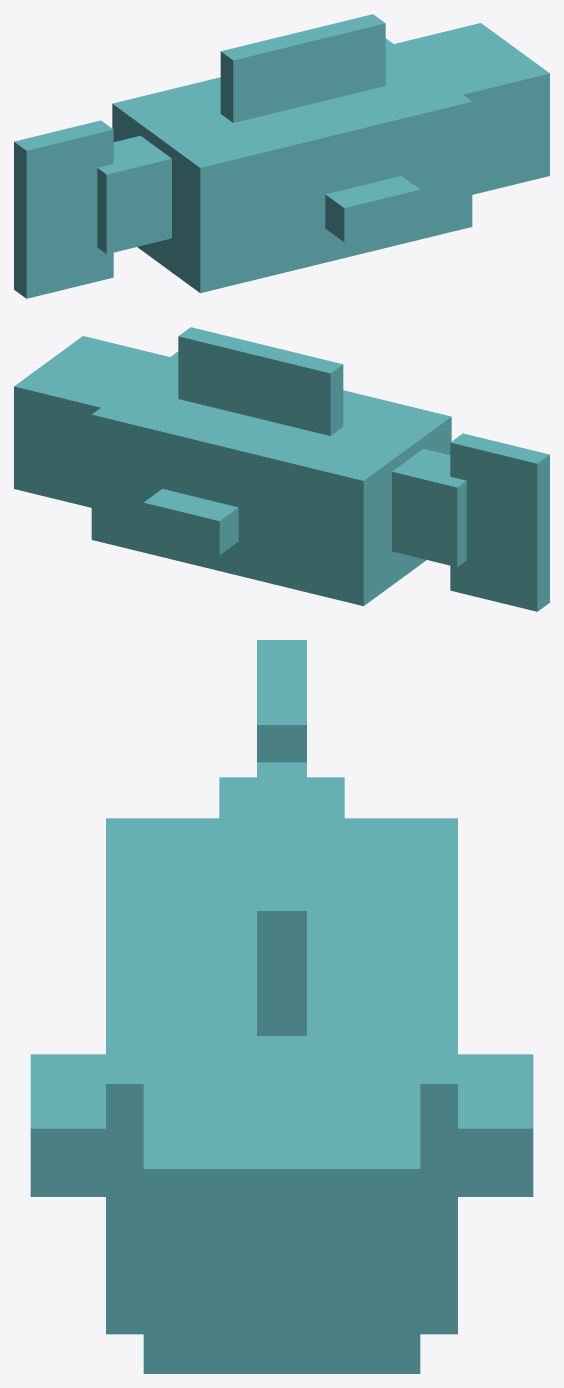
The model's file is fish_aurora_cod.glb.
3 views of the same model, one above another, from view 1: azimuth 30°, elevation 25°; view 2: azimuth 150°, elevation 25°; view 3: azimuth 270°, elevation 25° (orthographic). The views are drawn at different scales.
Parts seen in each view (by area): view 1: species.aurora_cod; view 2: species.aurora_cod; view 3: species.aurora_cod.
Boxes of the visible parts, left/top/right/bottom form: species.aurora_cod: left=14, top=14, right=549, bottom=298; species.aurora_cod: left=14, top=327, right=549, bottom=611; species.aurora_cod: left=30, top=640, right=533, bottom=1373.
Bounding box in the file's own units: 0.3 × 0.1088 × 0.1319.
